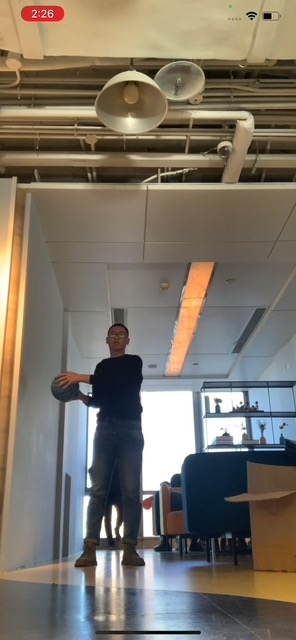ball: (50, 372, 81, 403)
